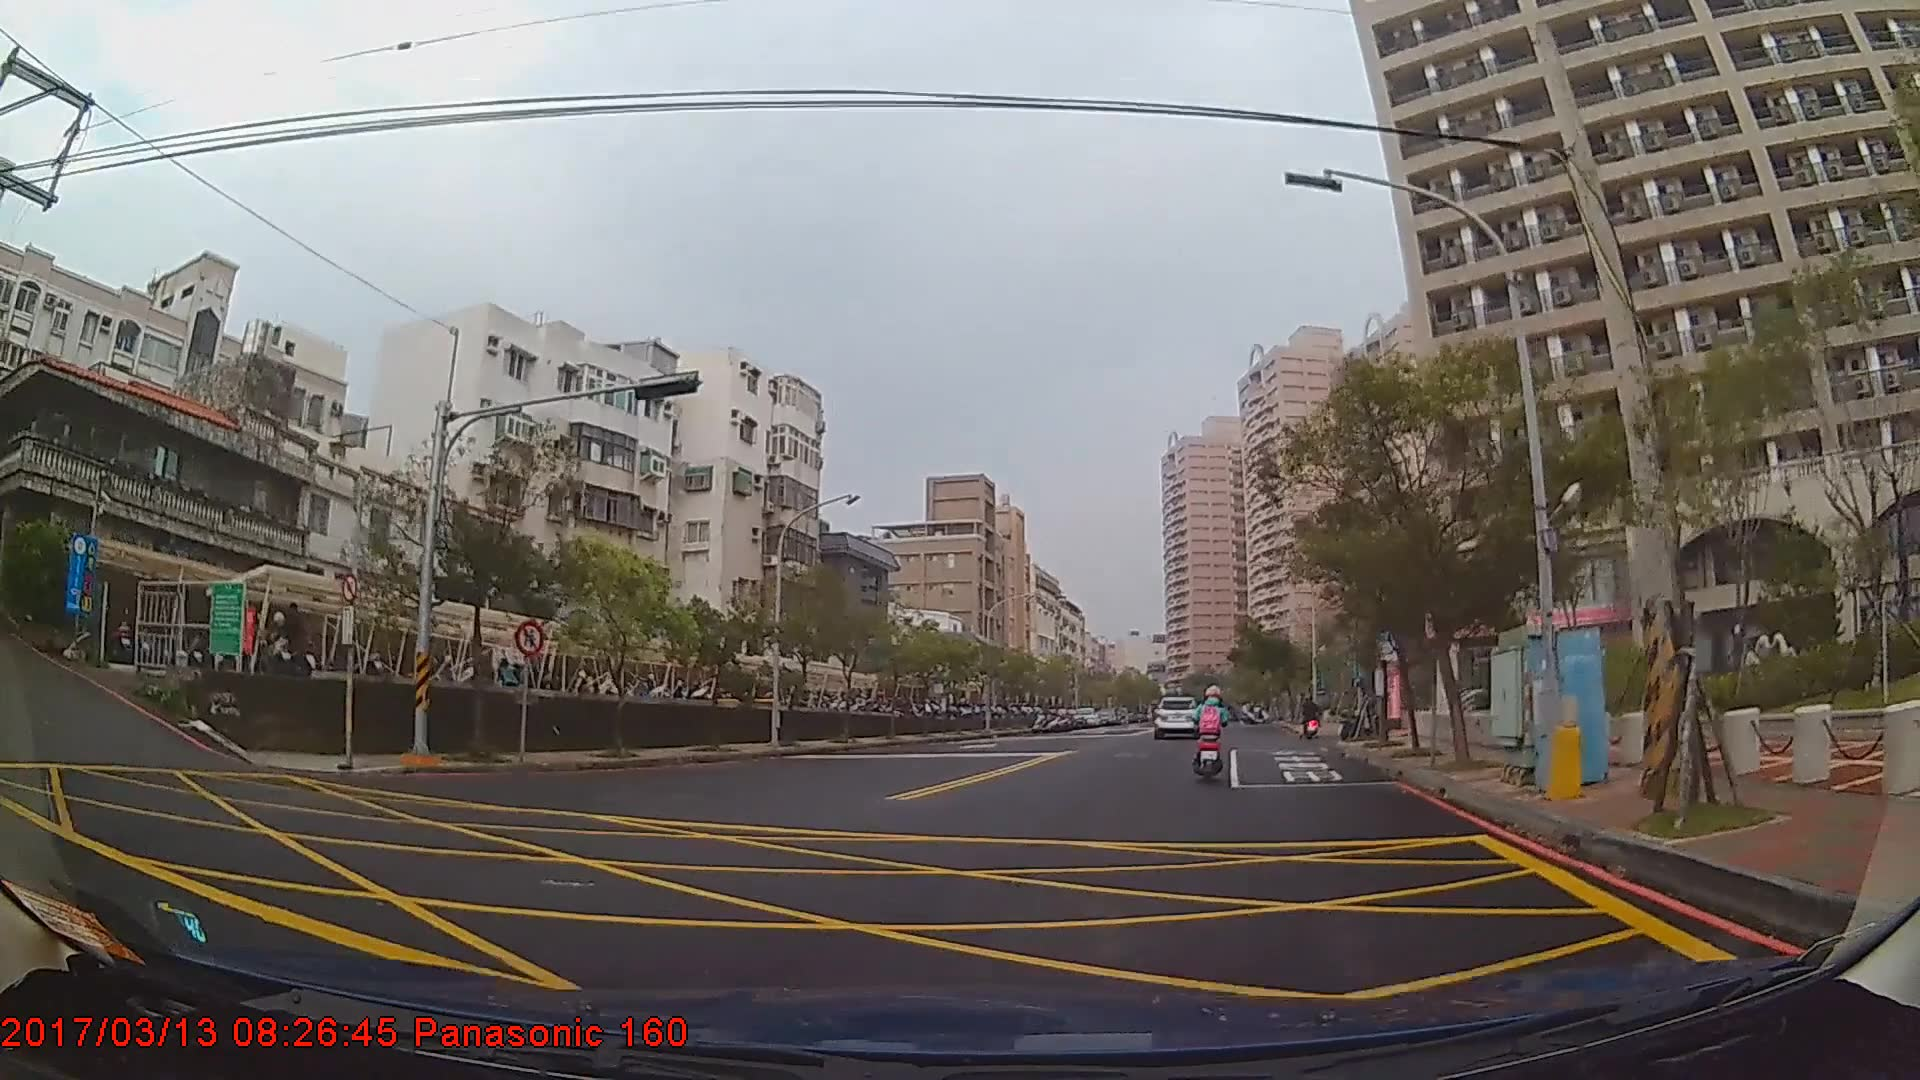rider: (1190, 684, 1232, 783)
vehicle: (1153, 693, 1198, 738)
